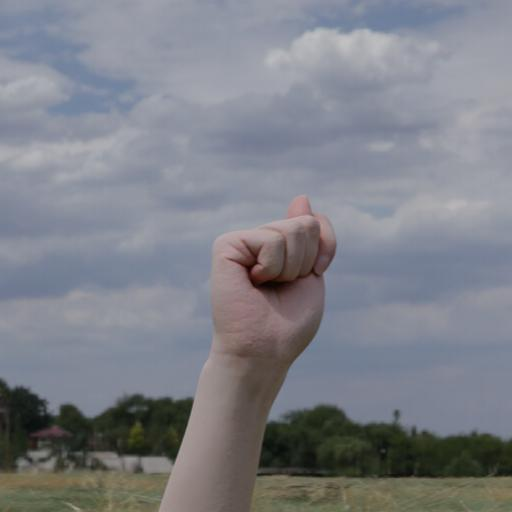T: (169, 142, 411, 416)
